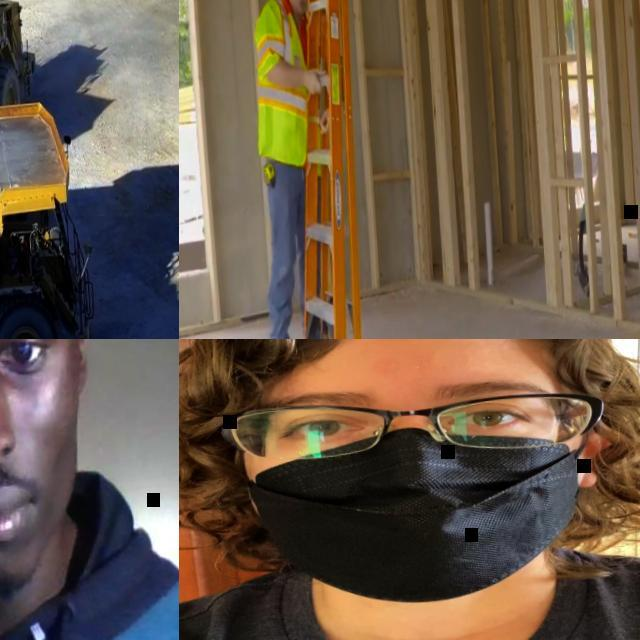Robbery: (184, 344, 640, 640), (0, 340, 174, 640), (228, 0, 357, 336)
